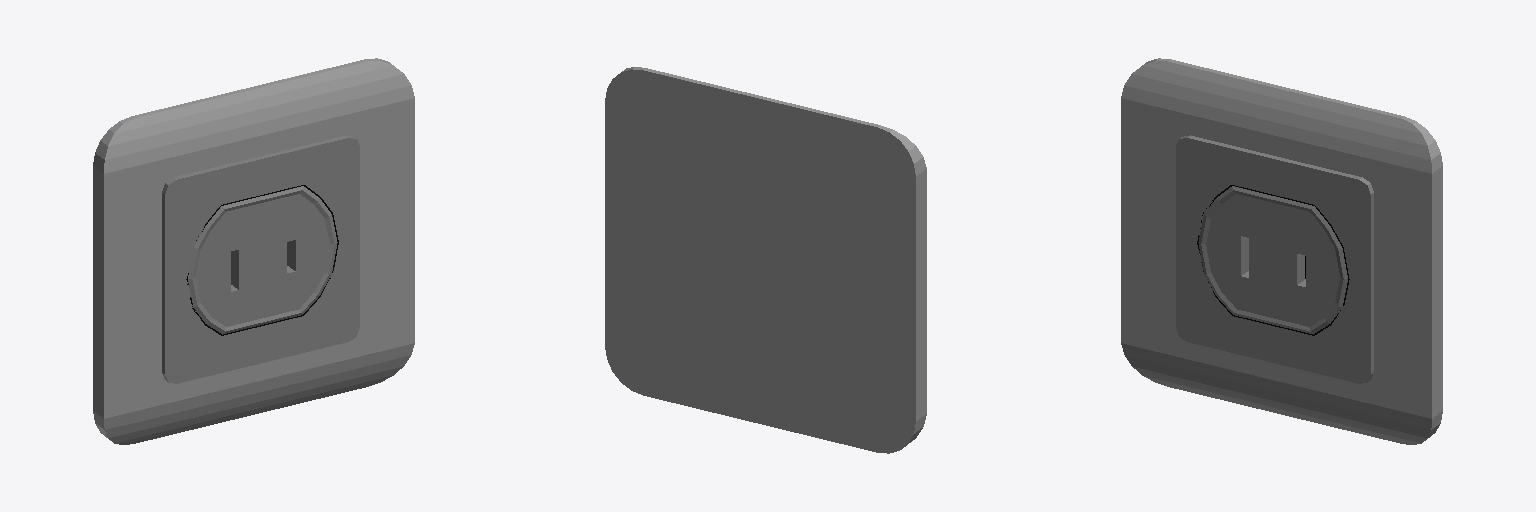
File: plug-TypeA-whites.obj
The picture shows the model from 3 angles: view 1: azimuth 30°, elevation 25°; view 2: azimuth 150°, elevation 25°; view 3: azimuth 330°, elevation 25°; orthographic projection.
Parts seen in each view (by area): view 1: plug_Cube.001, TypeA_Cube.002; view 2: plug_Cube.001; view 3: plug_Cube.001, TypeA_Cube.002.
Part boxes in pixels (bbox=[...]): plug_Cube.001: bbox=[93, 58, 414, 444]; TypeA_Cube.002: bbox=[186, 185, 338, 335]; plug_Cube.001: bbox=[605, 67, 926, 453]; plug_Cube.001: bbox=[1121, 58, 1442, 444]; TypeA_Cube.002: bbox=[1197, 185, 1349, 335].
Bounding box in the file's own units: 8.5 × 8.5 × 0.7169.